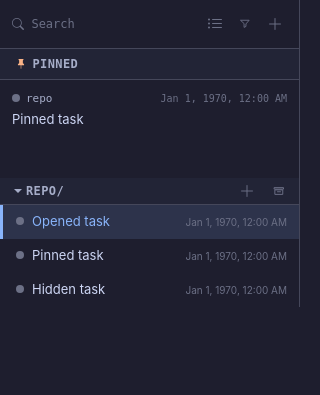
SessionSidebar › always-visible sessions in the projects view › keeps opened and pinned sessions despite the children filter
Click the button named "Filter sessions" at (245, 24), box [233, 12, 257, 36]
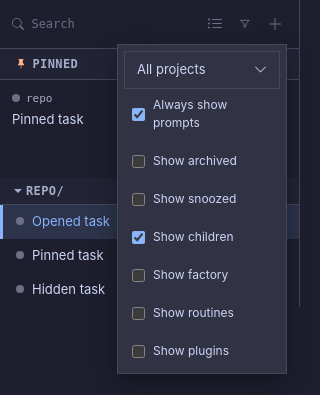
Click the checkbox labelled "Show children" at (138, 237), box [132, 230, 145, 244]
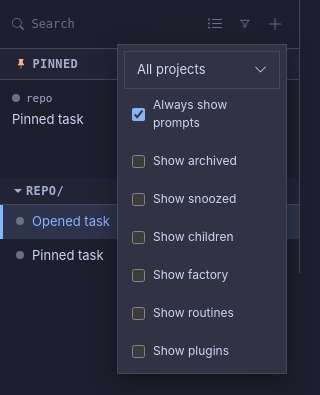
Check: the text "Opened task" is shown, box [32, 213, 110, 229]
Check: the button "Hidden task" is gone
